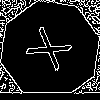X: (25, 25, 81, 78)
